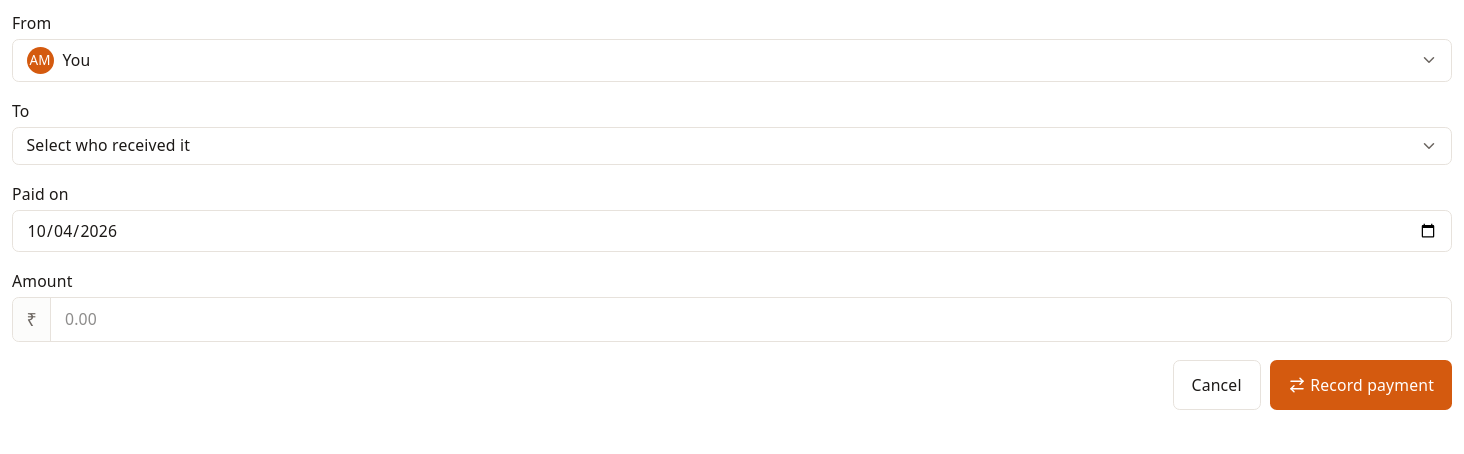
Test: RecordPaymentForm › shows a validation error when the sender and recipient are the same person
The width and height of the screenshot is (1464, 454).
Click the button with aria-label "To" at (108, 145), box [12,126,1452,164]
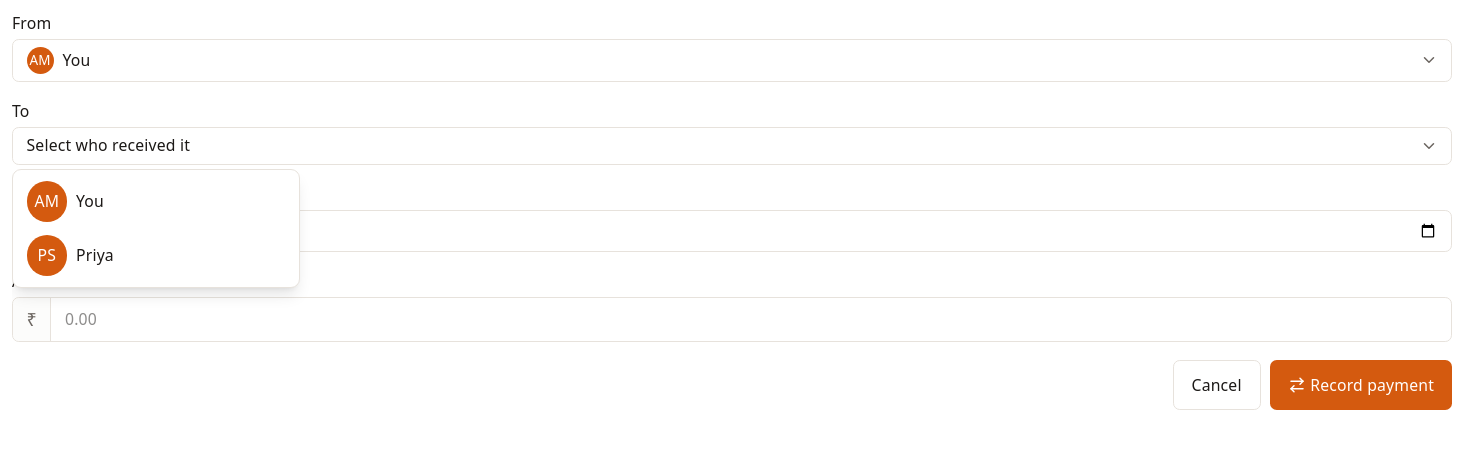
Click the menu item "AM You" at (65, 202), box [26,181,104,222]
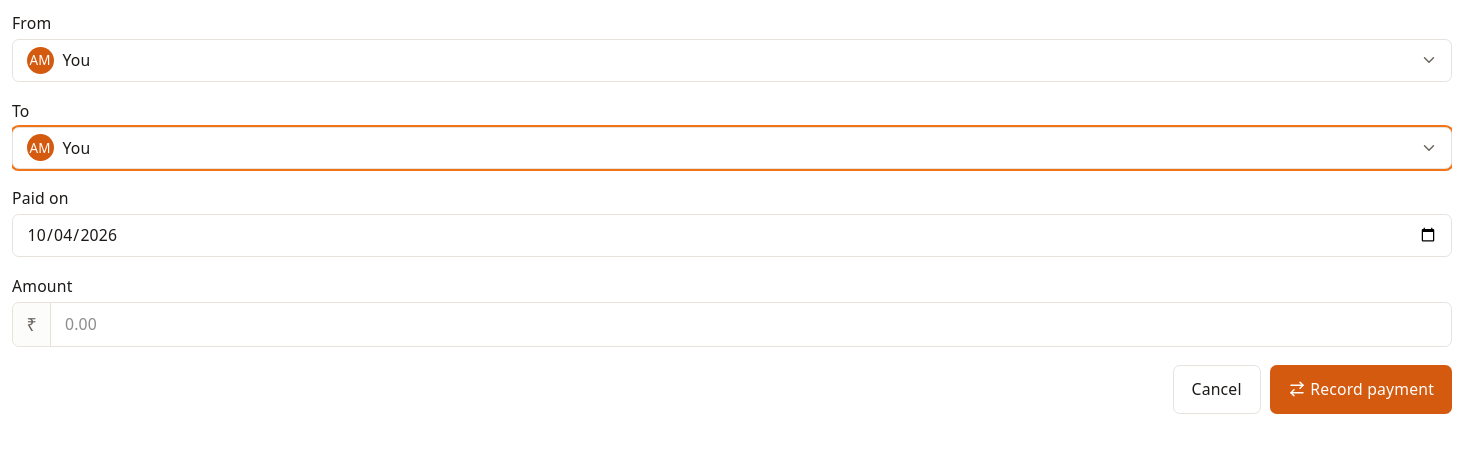
Type "25" into the number field labelled "Amount" at (751, 324), box [52,302,1451,346]
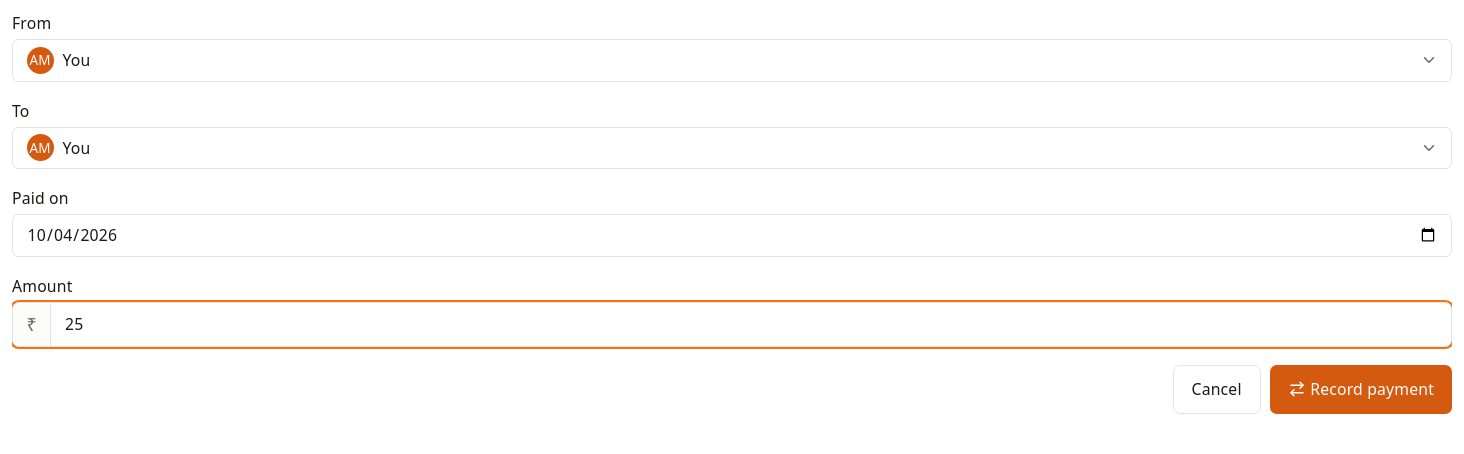
Click the button "Record payment" at (1361, 389), box [1270,364,1452,414]
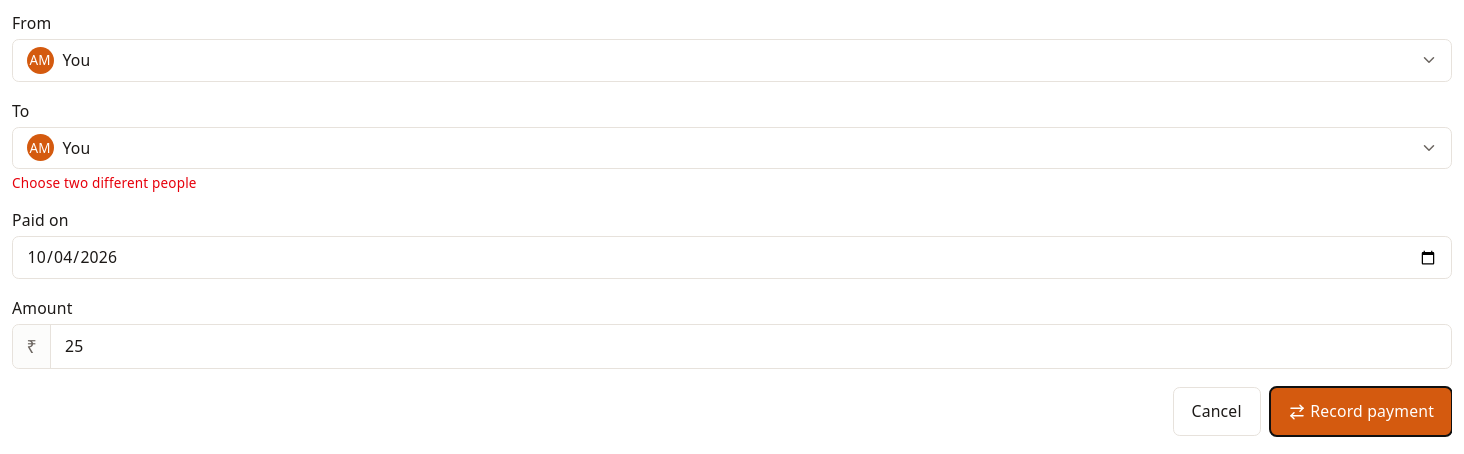
Now the text "Choose two different people" is shown, box [12,174,197,192]
